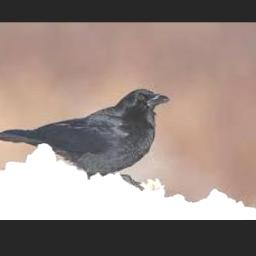Crow: (0, 89, 171, 194)
